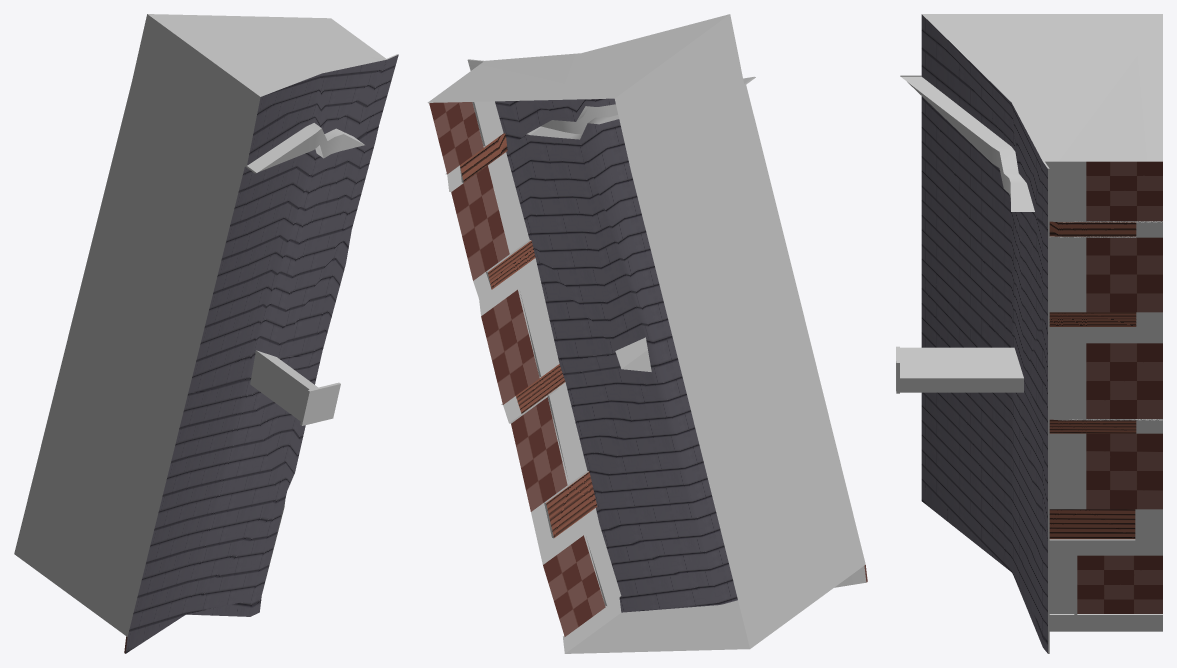
File: Vene_23-origo.obj
3 views of the same model, side by side, from view 1: azimuth 30°, elevation 25°; view 2: azimuth 150°, elevation 25°; view 3: azimuth 270°, elevation 25° (orthographic). The views are drawn at different scales.
Visible parts, largest first — view 1: Vene23; view 2: Vene23; view 3: Vene23.
Boxes of the visible parts, left/top/right/bottom form: Vene23: left=14, top=14, right=398, bottom=653; Vene23: left=427, top=14, right=867, bottom=653; Vene23: left=896, top=14, right=1162, bottom=653.
Bounding box in the file's own units: 10.62 × 17.5 × 6.94.
